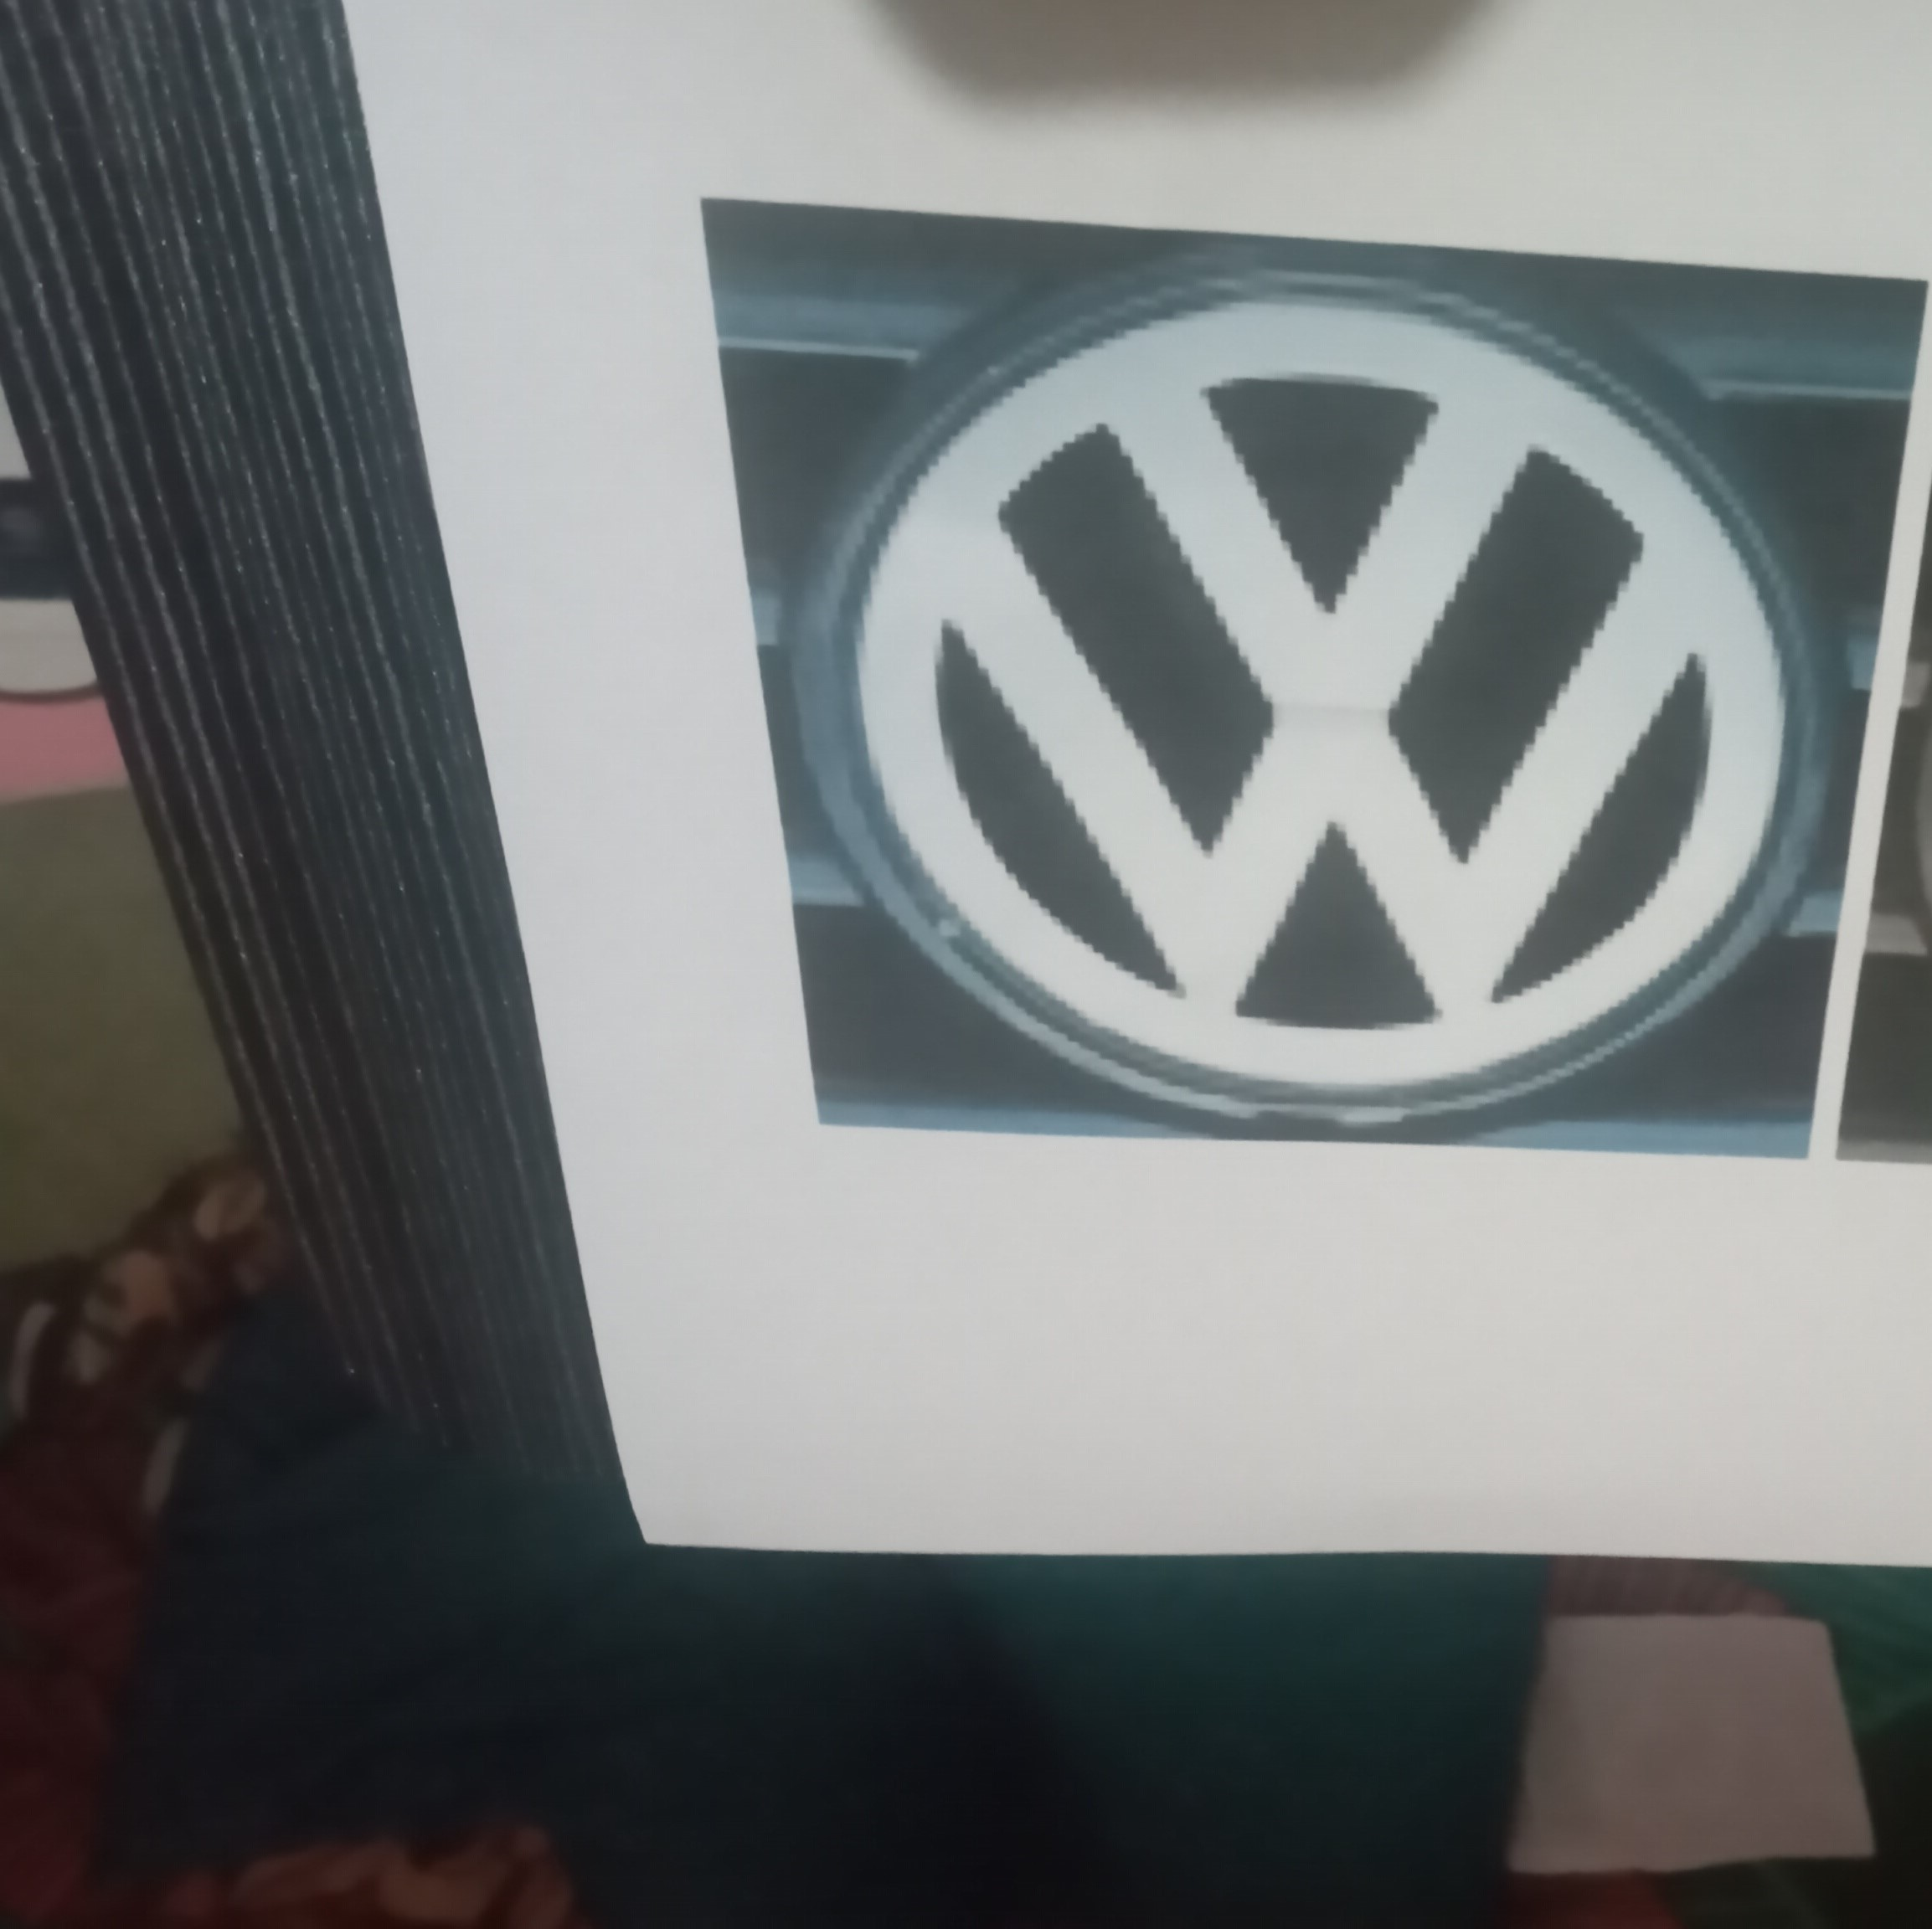Volkswagen: (802, 258, 1838, 1159)
